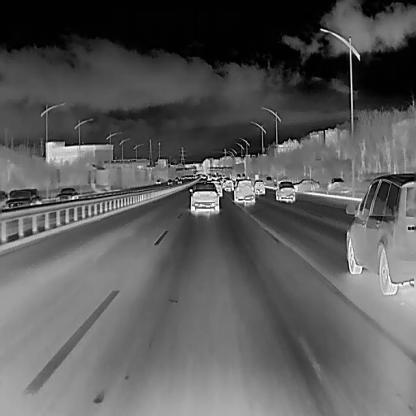car: (344, 171, 416, 295), (188, 181, 220, 215), (4, 187, 42, 215), (232, 180, 255, 203), (54, 186, 79, 207), (292, 177, 321, 193), (274, 180, 295, 202), (325, 175, 344, 191), (210, 180, 222, 198), (252, 179, 265, 195), (223, 180, 234, 192), (154, 178, 160, 185), (166, 178, 172, 184), (177, 178, 181, 184), (174, 177, 178, 182)
